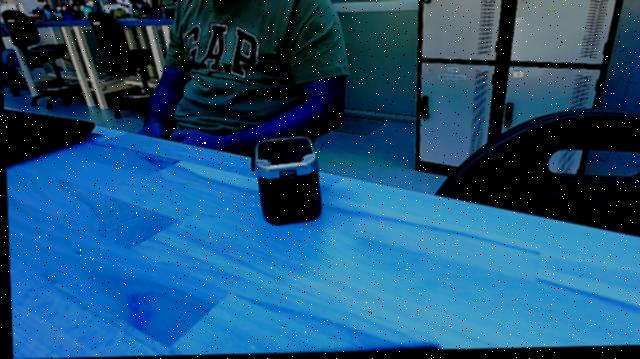adapter: (246, 135, 327, 231)
